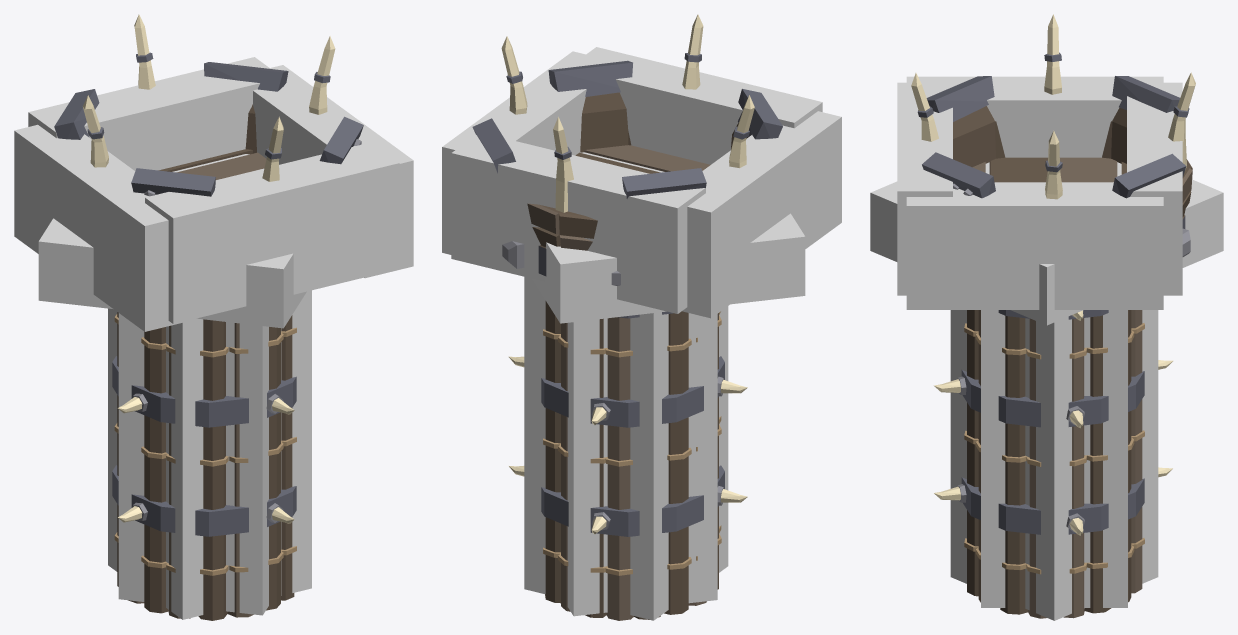
File: orc_tower_3.glb
3 renders of one model, left to right at view 1: azimuth 30°, elevation 25°; view 2: azimuth 150°, elevation 25°; view 3: azimuth 270°, elevation 25°, orthographic.
Visible parts, largest first — view 1: Cube.005, Cube.004, Cube, Cube.001, Cube.006, TOWER_3_UP_01, TOWER_3_OSNOVA_01, TOWER_3_OSNOVA_02, Cube.002, Cube.003, TOWER_3_OSNOVA_03; view 2: Cube.006, Cube, Cube.004, TOWER_3_UP_01, Cube.001, Cube.005, TOWER_3_OSNOVA_01, TOWER_3_OSNOVA_02, Cube.002, Cube.003, TOWER_3_OSNOVA_03; view 3: Cube.003, Cube.001, TOWER_3_UP_01, Cube, TOWER_3_OSNOVA_01, TOWER_3_OSNOVA_02, Cube.004, TOWER_3_OSNOVA_03, Cube.002, Cube.006, Cube.005.
Part boxes in pixels (left/top/right/bottom): Cube.005: left=145, top=142, right=399, bottom=323; Cube.004: left=14, top=124, right=193, bottom=331; Cube: left=108, top=290, right=311, bottom=619; Cube.001: left=118, top=313, right=268, bottom=615; Cube.006: left=28, top=57, right=270, bottom=170; TOWER_3_UP_01: left=54, top=14, right=363, bottom=196; TOWER_3_OSNOVA_01: left=112, top=465, right=296, bottom=620; TOWER_3_OSNOVA_02: left=112, top=356, right=296, bottom=509; Cube.002: left=38, top=154, right=306, bottom=328; Cube.003: left=253, top=65, right=413, bottom=278; TOWER_3_OSNOVA_03: left=114, top=312, right=296, bottom=400; Cube.006: left=451, top=135, right=705, bottom=313; Cube: left=524, top=277, right=728, bottom=620; Cube.004: left=682, top=111, right=841, bottom=318; TOWER_3_UP_01: left=472, top=14, right=782, bottom=285; Cube.001: left=567, top=313, right=717, bottom=616; Cube.005: left=568, top=47, right=822, bottom=164; TOWER_3_OSNOVA_01: left=509, top=465, right=747, bottom=620; TOWER_3_OSNOVA_02: left=508, top=356, right=747, bottom=509; Cube.002: left=532, top=152, right=805, bottom=323; Cube.003: left=442, top=51, right=586, bottom=254; TOWER_3_OSNOVA_03: left=543, top=301, right=721, bottom=400; Cube.003: left=906, top=182, right=1163, bottom=309; Cube.001: left=950, top=310, right=1158, bottom=620; TOWER_3_UP_01: left=911, top=14, right=1195, bottom=256; Cube: left=981, top=310, right=1127, bottom=607; TOWER_3_OSNOVA_01: left=934, top=467, right=1172, bottom=618; TOWER_3_OSNOVA_02: left=934, top=360, right=1173, bottom=508; Cube.004: left=906, top=76, right=1163, bottom=157; TOWER_3_OSNOVA_03: left=964, top=310, right=1144, bottom=401; Cube.002: left=870, top=162, right=1223, bottom=325; Cube.006: left=1127, top=82, right=1182, bottom=295; Cube.005: left=897, top=82, right=952, bottom=295.
Bounding box in the file's own units: 7.79 × 12.38 × 7.79.
1 material, 1 textured.
